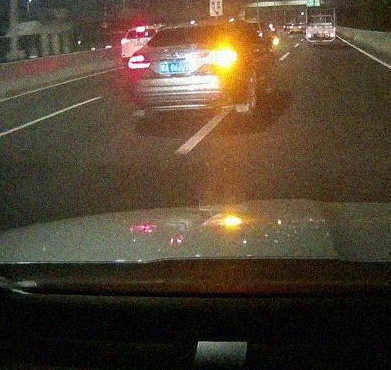L_light: (127, 54, 151, 69)
R_light: (211, 50, 237, 66)
T_light: (185, 25, 204, 30)
night-right: (126, 19, 245, 121)
